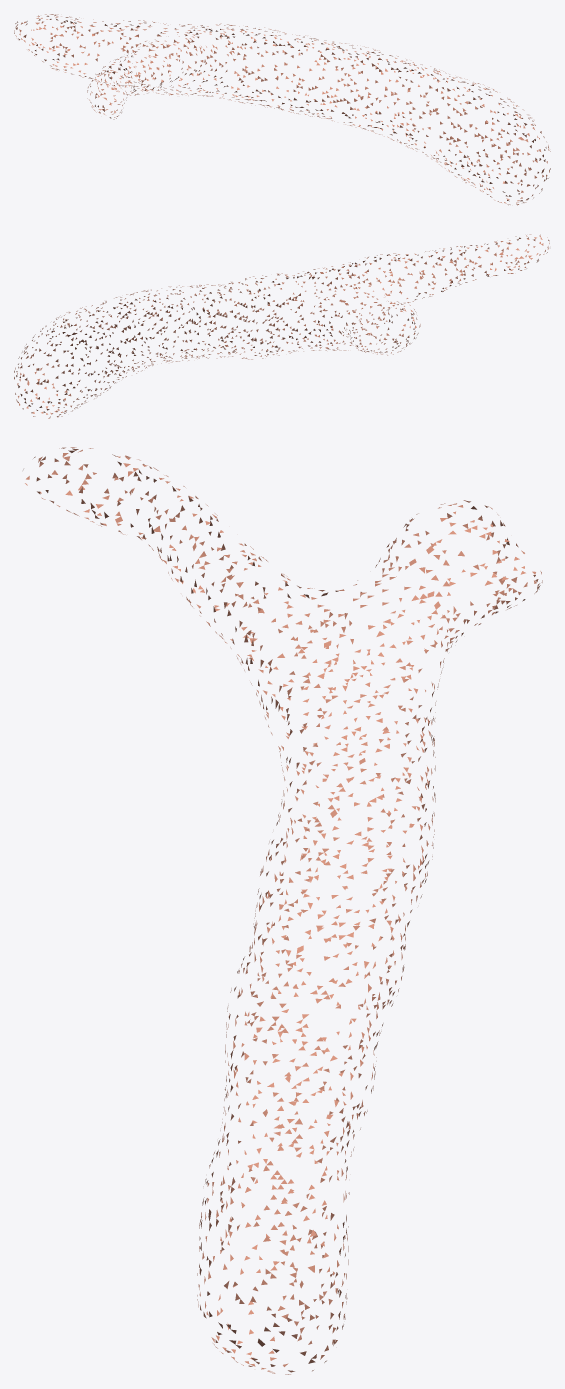
File: morph_003.glb
The picture shows the model from 3 angles, top to bottom: view 1: azimuth 30°, elevation 25°; view 2: azimuth 150°, elevation 25°; view 3: azimuth 270°, elevation 25°; orthographic projection. The views are drawn at different scales.
Size of the model in its own units: 112 by 56.29 by 53.06.
